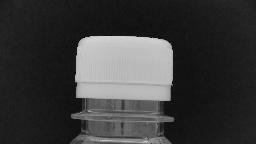Loose Cap: (68, 79, 178, 126)
